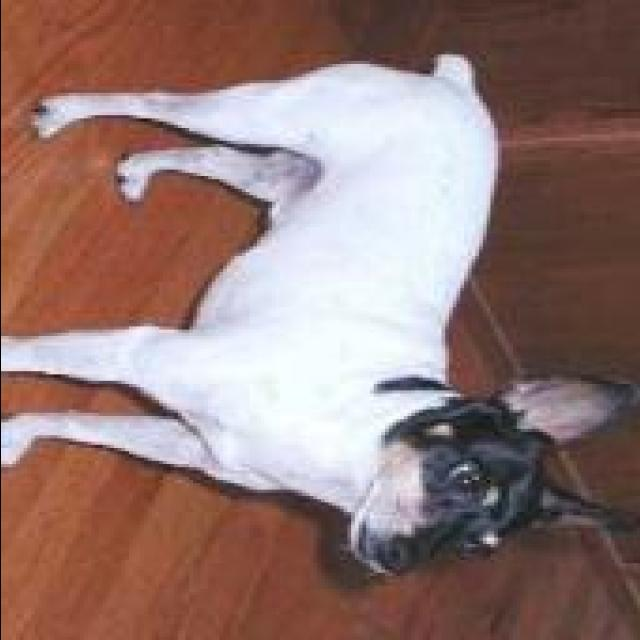toy_terrier: (4, 48, 636, 589)
